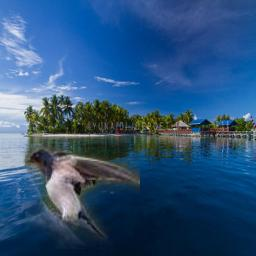Swallow: (25, 146, 140, 249)
